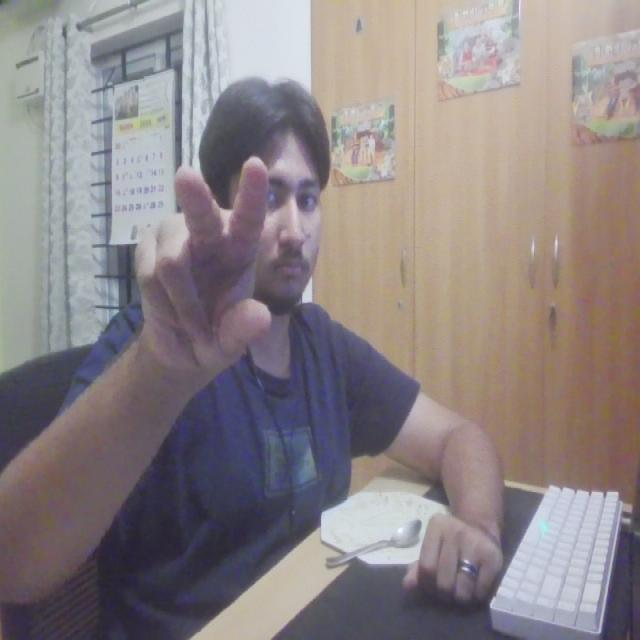no: (132, 156, 288, 386)
